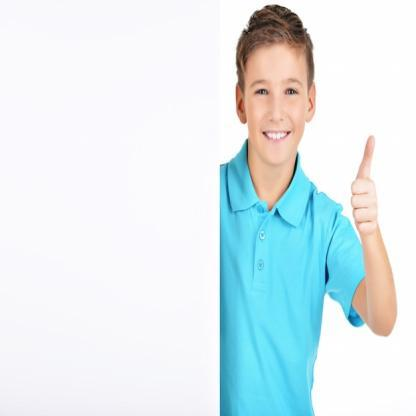thumb_up: (348, 131, 384, 243)
